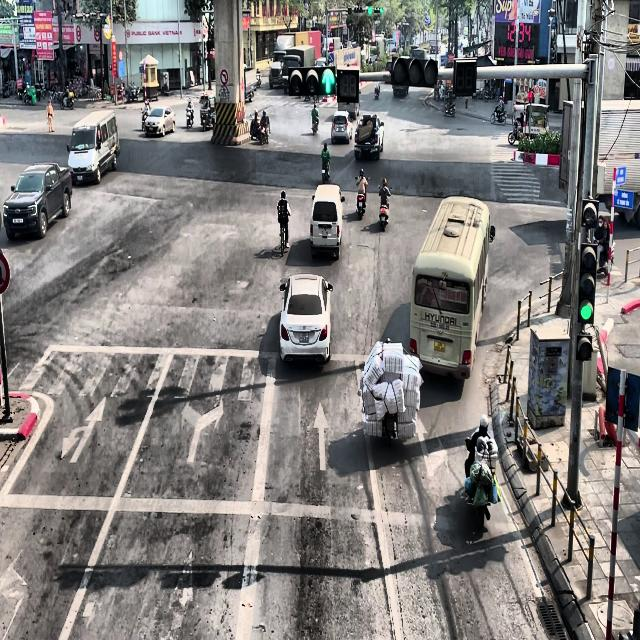BUS: (409, 195, 495, 380)
CAR: (3, 162, 72, 240), (278, 272, 332, 366), (354, 114, 384, 160), (144, 106, 175, 137), (331, 110, 352, 144)
MOTORBIKE: (464, 439, 498, 530), (378, 187, 392, 230), (278, 214, 289, 256), (508, 116, 523, 145), (356, 185, 366, 219), (249, 114, 261, 140), (60, 90, 74, 110), (443, 98, 456, 118), (321, 158, 331, 184), (258, 122, 268, 144), (141, 107, 149, 131), (186, 106, 193, 128), (312, 116, 318, 134), (374, 82, 380, 99), (256, 72, 261, 86)
TRAFFIC_LIGHT: (577, 242, 597, 324), (367, 5, 383, 15), (374, 6, 384, 14), (353, 5, 362, 12), (367, 6, 372, 16)
